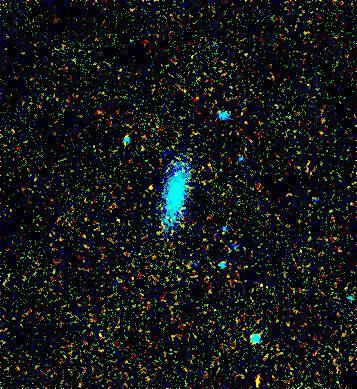star: (137, 171, 167, 201)
